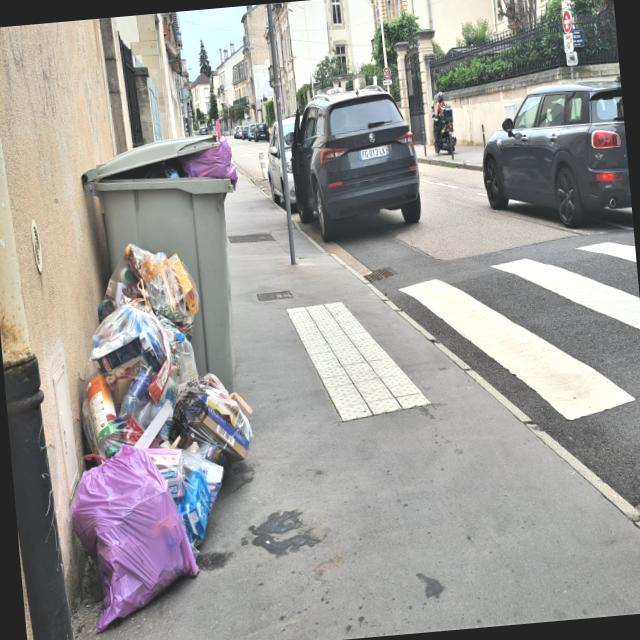garbage: (0, 170, 267, 632)
